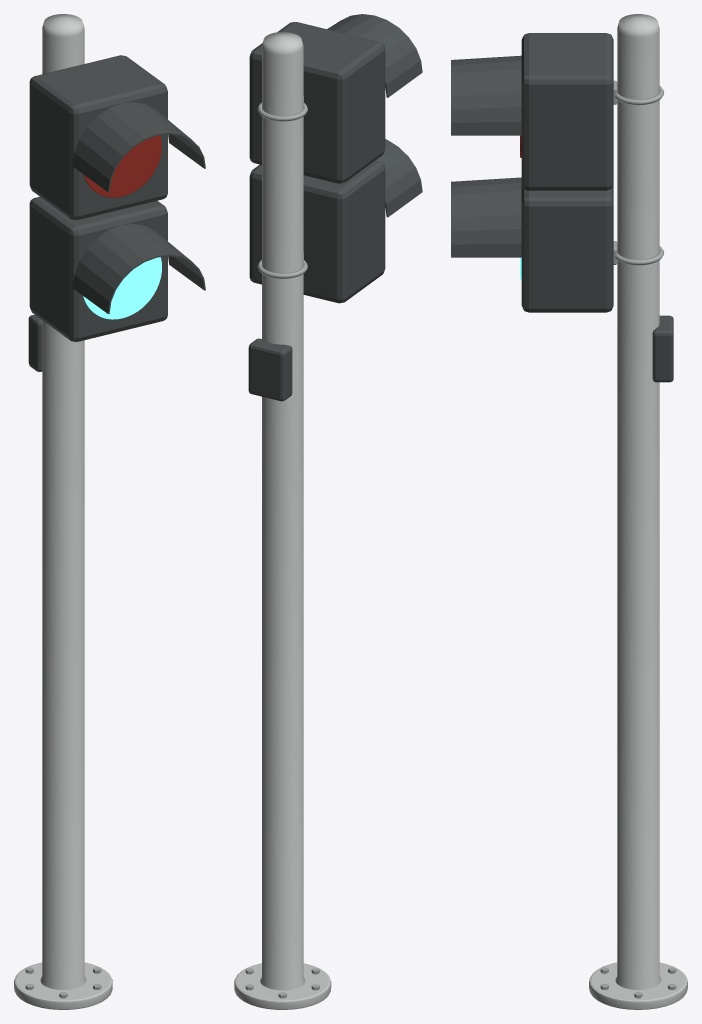
Rendered from city-pedestrian-signal-head.glb.
The picture shows the model from 3 angles, left to right: view 1: azimuth 30°, elevation 25°; view 2: azimuth 150°, elevation 25°; view 3: azimuth 270°, elevation 25°; orthographic projection.
Visible parts, largest first — view 1: Assembly | Dark grey signal housing, Assembly | Grey signal pole paint, Assembly | Red signal lens, unlit, Assembly | Blue-green signal lens, lit; view 2: Assembly | Grey signal pole paint, Assembly | Dark grey signal housing, Assembly | Band clamp steel; view 3: Assembly | Grey signal pole paint, Assembly | Dark grey signal housing, Assembly | Band clamp steel.
Boxes of the visible parts, x1,y1,x2,y2 form: Assembly | Dark grey signal housing: [28, 55, 205, 371]; Assembly | Grey signal pole paint: [14, 14, 112, 1009]; Assembly | Red signal lens, unlit: [83, 135, 161, 197]; Assembly | Blue-green signal lens, lit: [83, 257, 161, 319]; Assembly | Grey signal pole paint: [234, 32, 331, 1009]; Assembly | Dark grey signal housing: [248, 14, 422, 401]; Assembly | Band clamp steel: [245, 96, 319, 998]; Assembly | Grey signal pole paint: [589, 14, 687, 1009]; Assembly | Dark grey signal housing: [451, 33, 673, 382]; Assembly | Band clamp steel: [600, 80, 676, 998].
Size of the model in its own units: 0.32 by 3.03 by 0.67.
